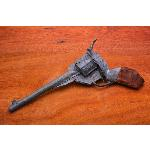Pistol: (8, 37, 144, 113)
